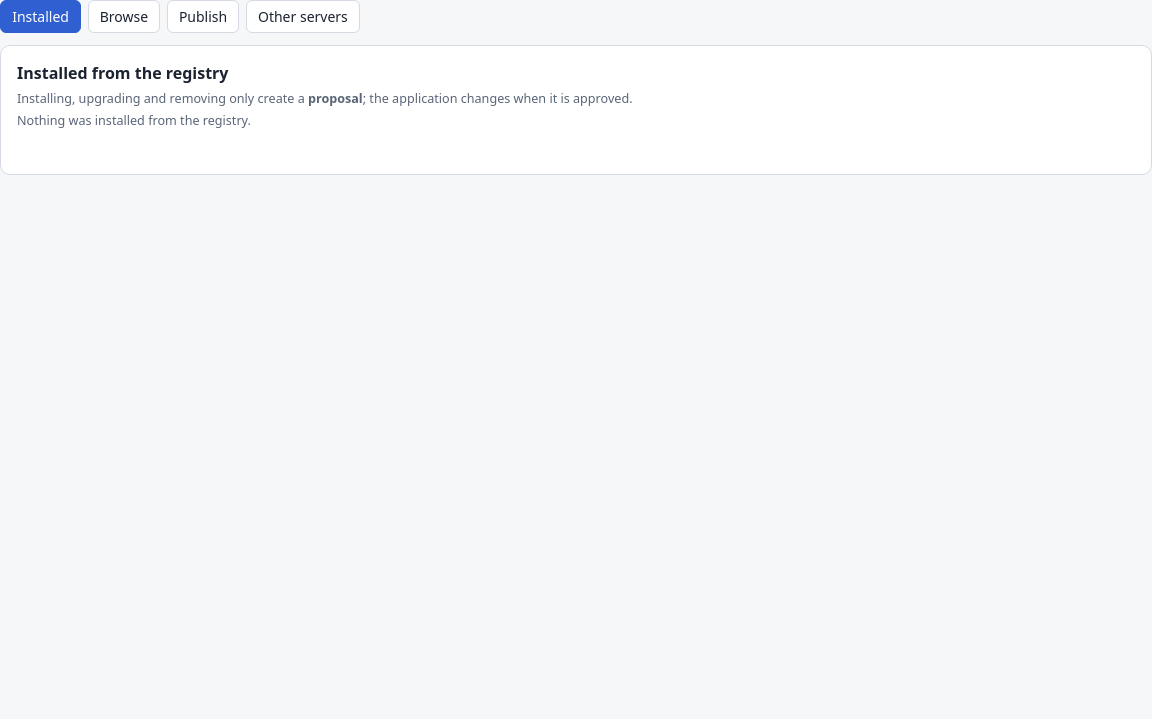
Test: Registry: browsing and installing › searches and shows versions, including withdrawn ones with the reason
This screenshot has width=1152, height=719.
Click the tab "Browse".
click(124, 17)  # box x1=88 y1=0 x2=160 y2=34
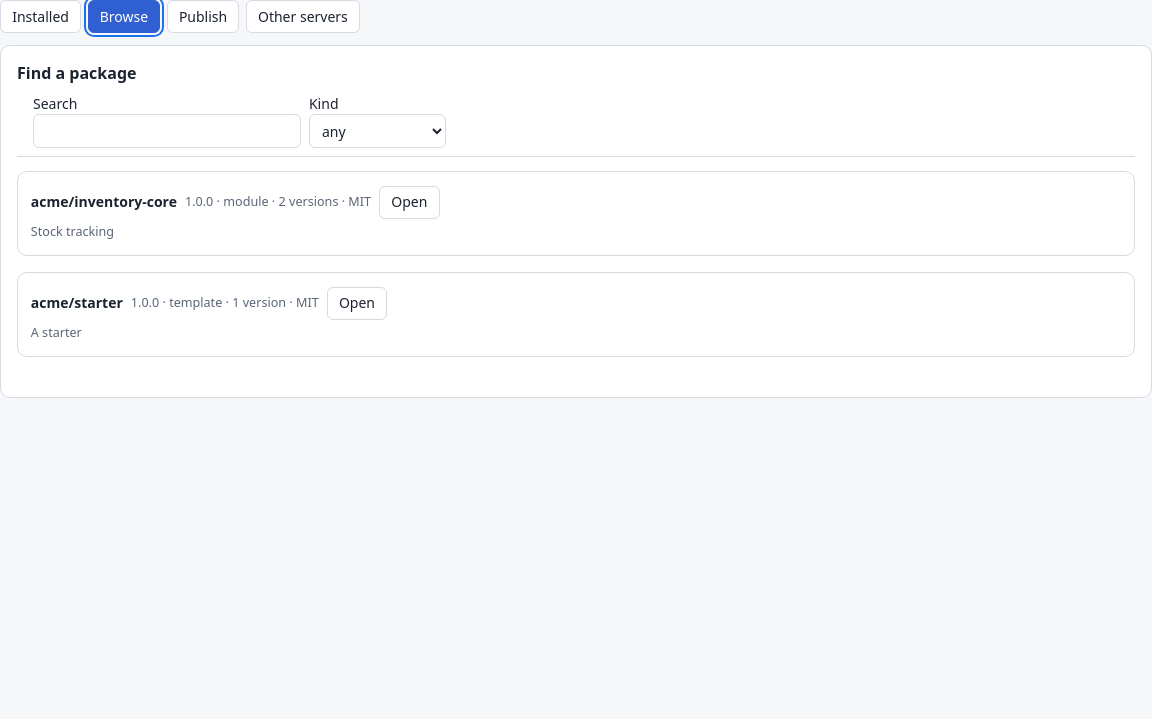
Type "stock" into the field named "Search packages".
click(167, 131); type("stock")  # box x1=33 y1=114 x2=301 y2=148
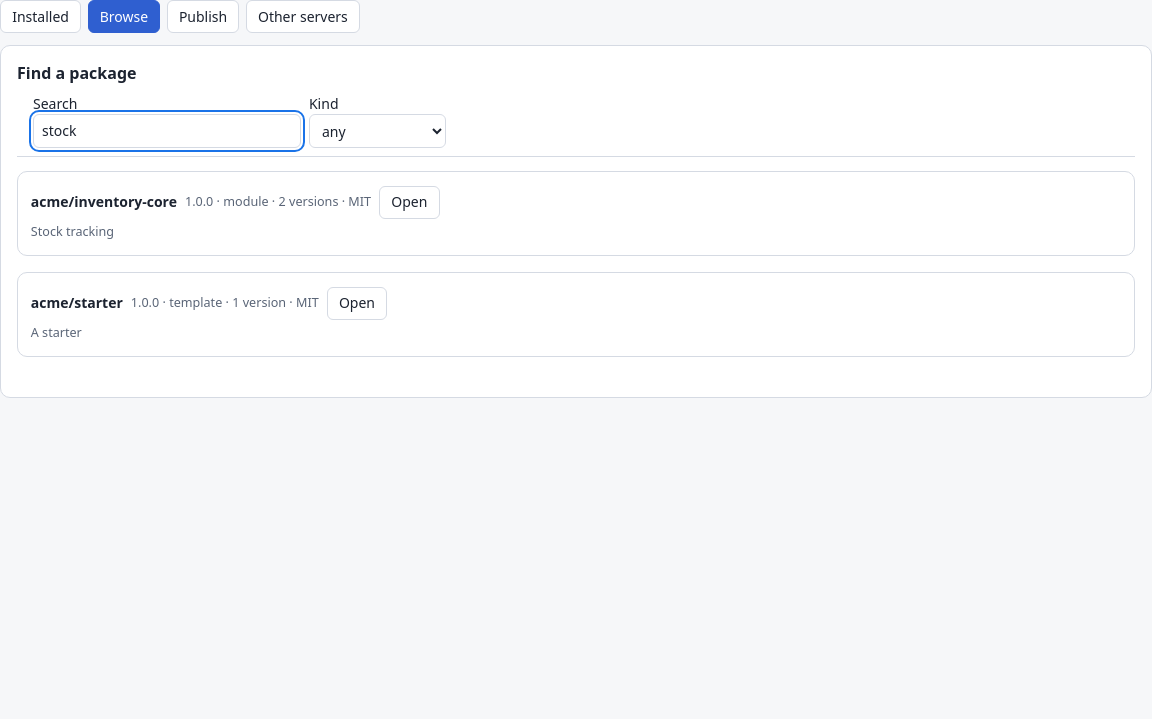
Select "templates" in the dropdown labelled "Kind" at [378, 131], box x1=309 y1=114 x2=446 y2=148
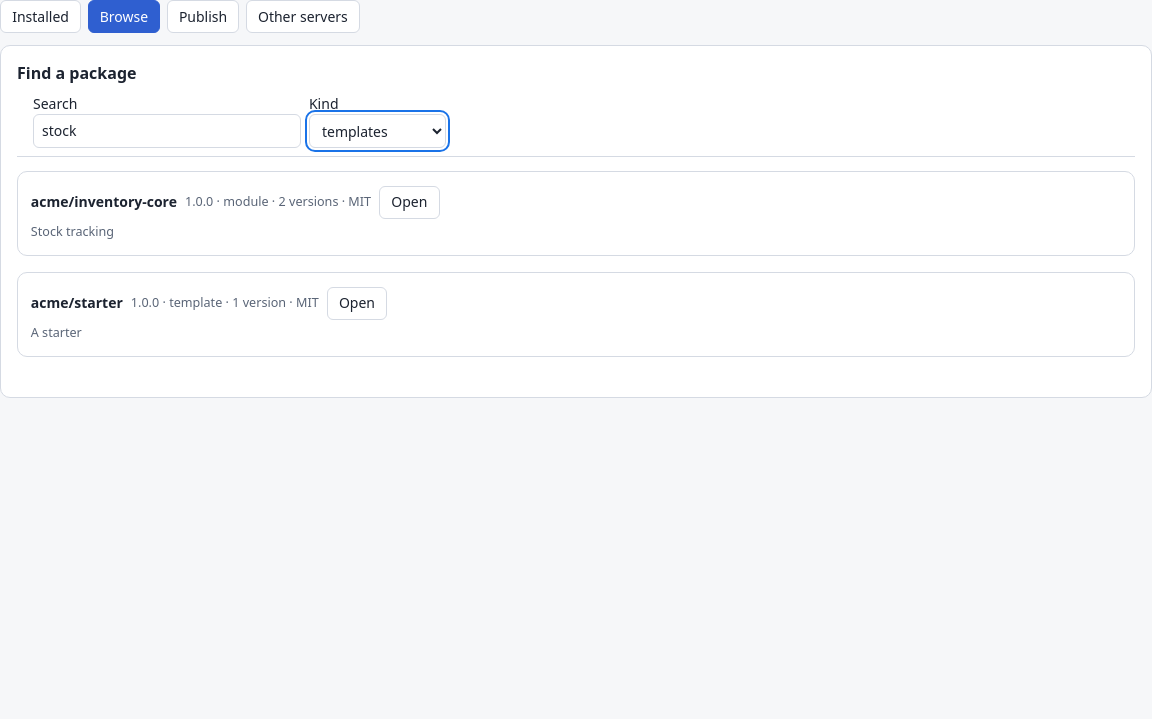
Click the button "Open" in the row of "module".
click(409, 203)  # box x1=379 y1=186 x2=440 y2=219
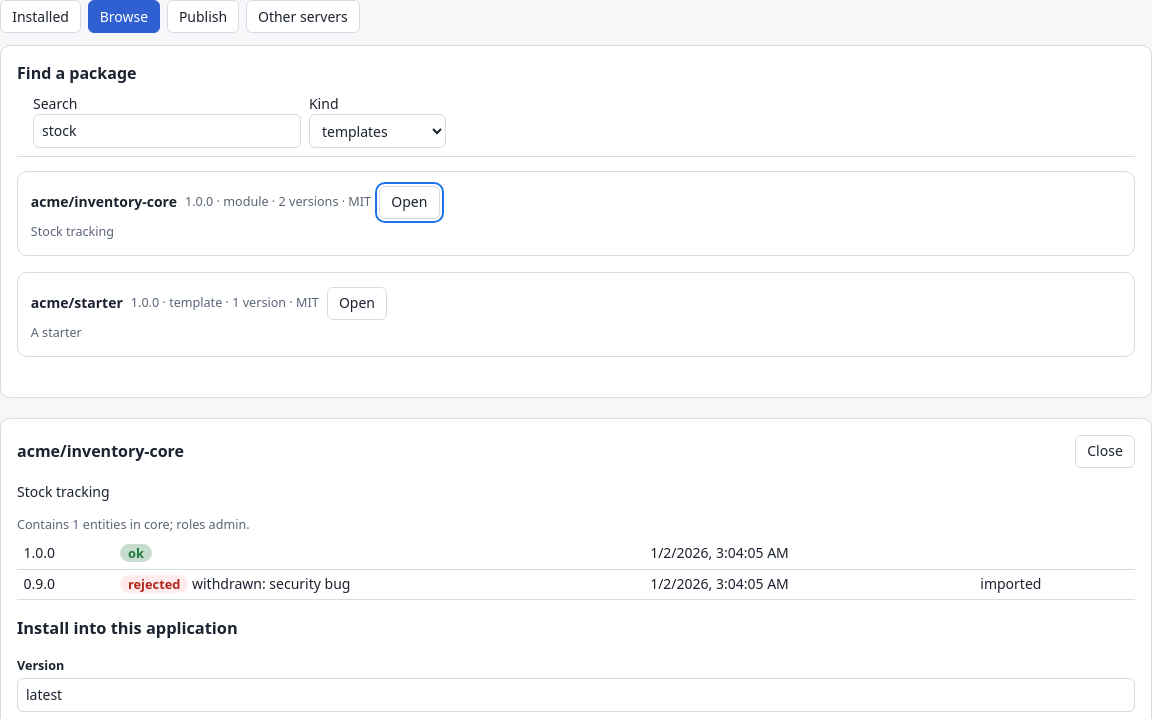
Now the text "rejected withdrawn: security bug" is shown, box x1=114 y1=569 x2=644 y2=600
Now the text "imported" is shown, box x1=974 y1=569 x2=1135 y2=600
